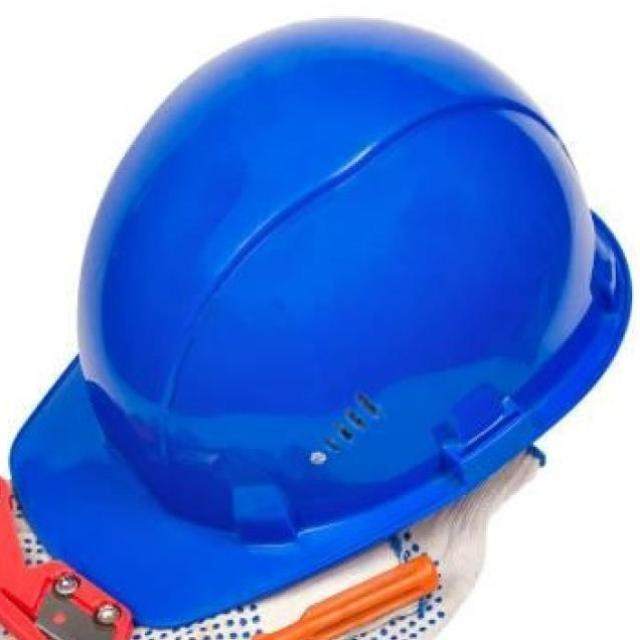helmet: (5, 15, 635, 637)
